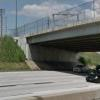Bridge: (8, 13, 99, 46)
